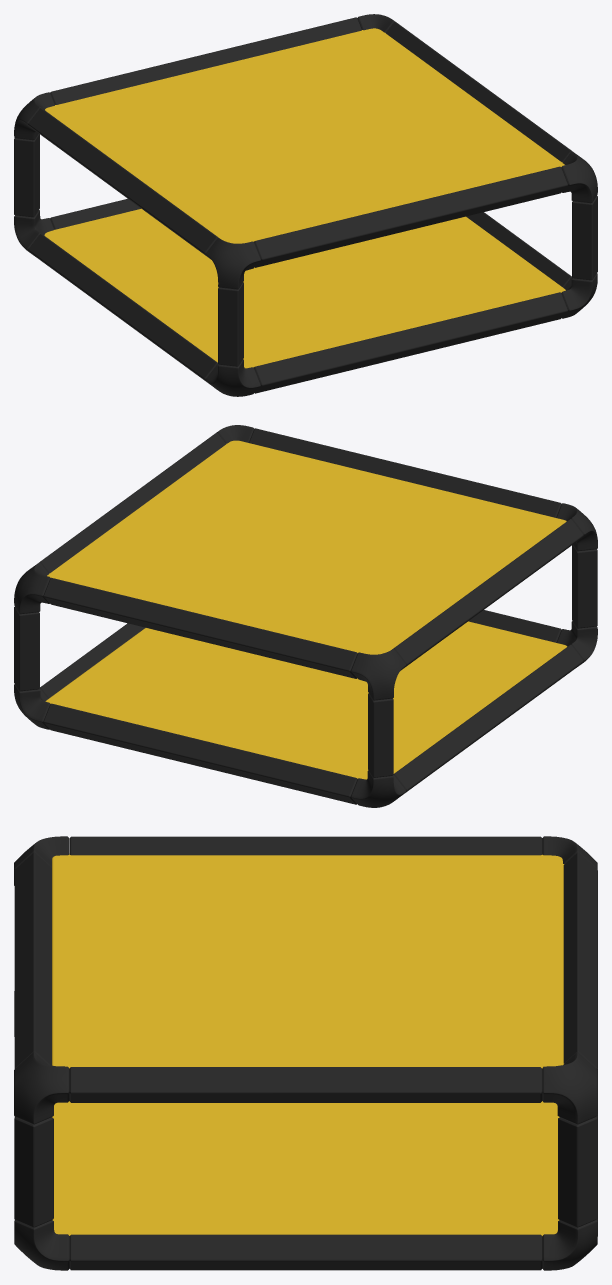
The picture shows the model from 3 angles, top to bottom: view 1: azimuth 30°, elevation 25°; view 2: azimuth 150°, elevation 25°; view 3: azimuth 270°, elevation 25°; orthographic projection. The views are drawn at different scales.
Parts seen in each view (by area): view 1: 329x329x79; view 2: 329x329x79; view 3: 329x329x79.
Boxes of the visible parts, left/top/right/bottom form: 329x329x79: left=14, top=14, right=597, bottom=396; 329x329x79: left=14, top=425, right=597, bottom=807; 329x329x79: left=14, top=836, right=597, bottom=1270.
Bounding box in the file's own units: 0.4067 × 0.1566 × 0.4063.
